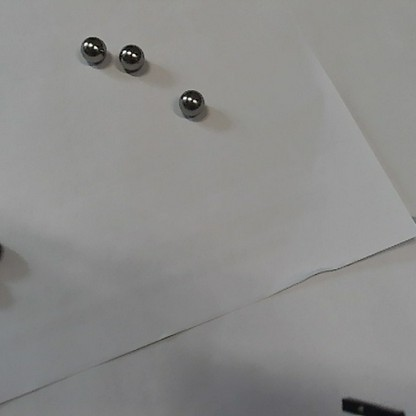ironball: (116, 43, 146, 74), (76, 36, 106, 65), (179, 88, 204, 119)
